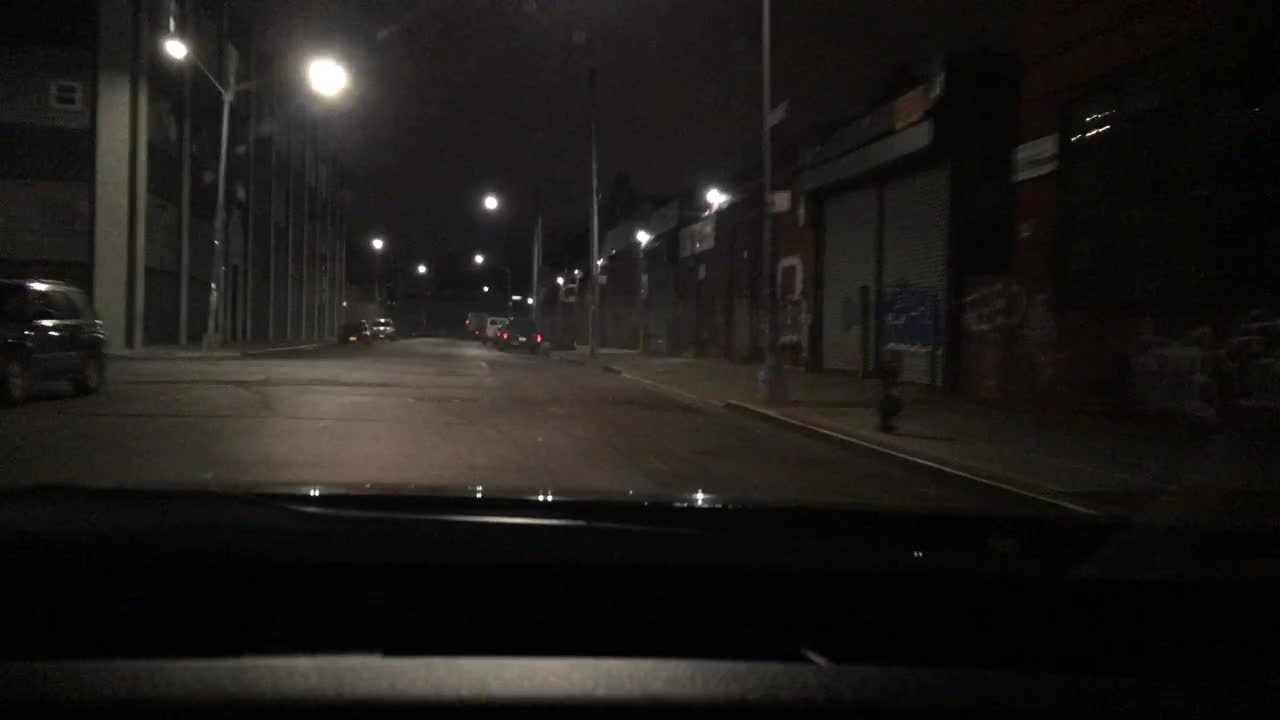car: (0, 272, 110, 411), (490, 316, 544, 354), (336, 317, 374, 346), (481, 314, 514, 346), (368, 315, 401, 341), (461, 309, 485, 340)
traffic sign: (1005, 129, 1060, 187), (761, 96, 793, 131), (764, 186, 793, 215)
